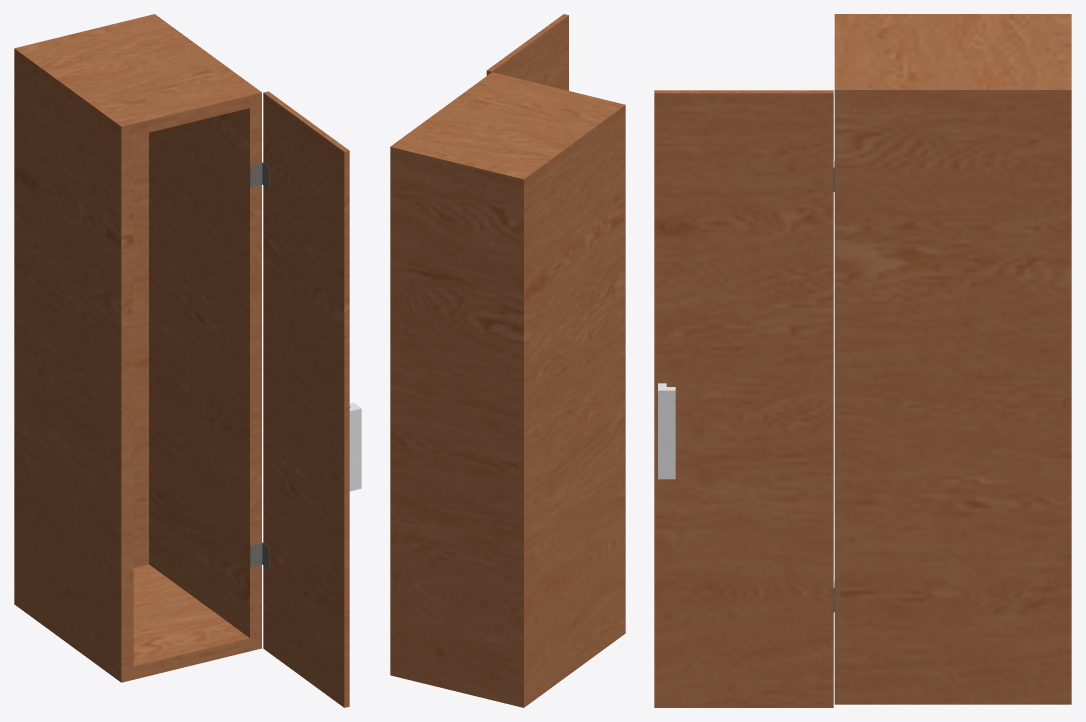
File: Closet27.fbx
The picture shows the model from 3 angles, left to right: view 1: azimuth 30°, elevation 25°; view 2: azimuth 150°, elevation 25°; view 3: azimuth 270°, elevation 25°; orthographic projection. The views are drawn at different scales.
Visible parts, largest first — view 1: Closet27, Closet27Door; view 2: Closet27, Closet27Door; view 3: Closet27, Closet27Door.
Part boxes in pixels (left/top/right/bottom): Closet27: left=14, top=14, right=262, bottom=682; Closet27Door: left=262, top=91, right=361, bottom=707; Closet27: left=390, top=72, right=625, bottom=707; Closet27Door: left=486, top=14, right=568, bottom=90; Closet27: left=833, top=14, right=1071, bottom=704; Closet27Door: left=654, top=90, right=834, bottom=707.
Size of the model in its own units: 76.86 by 254 by 157.
